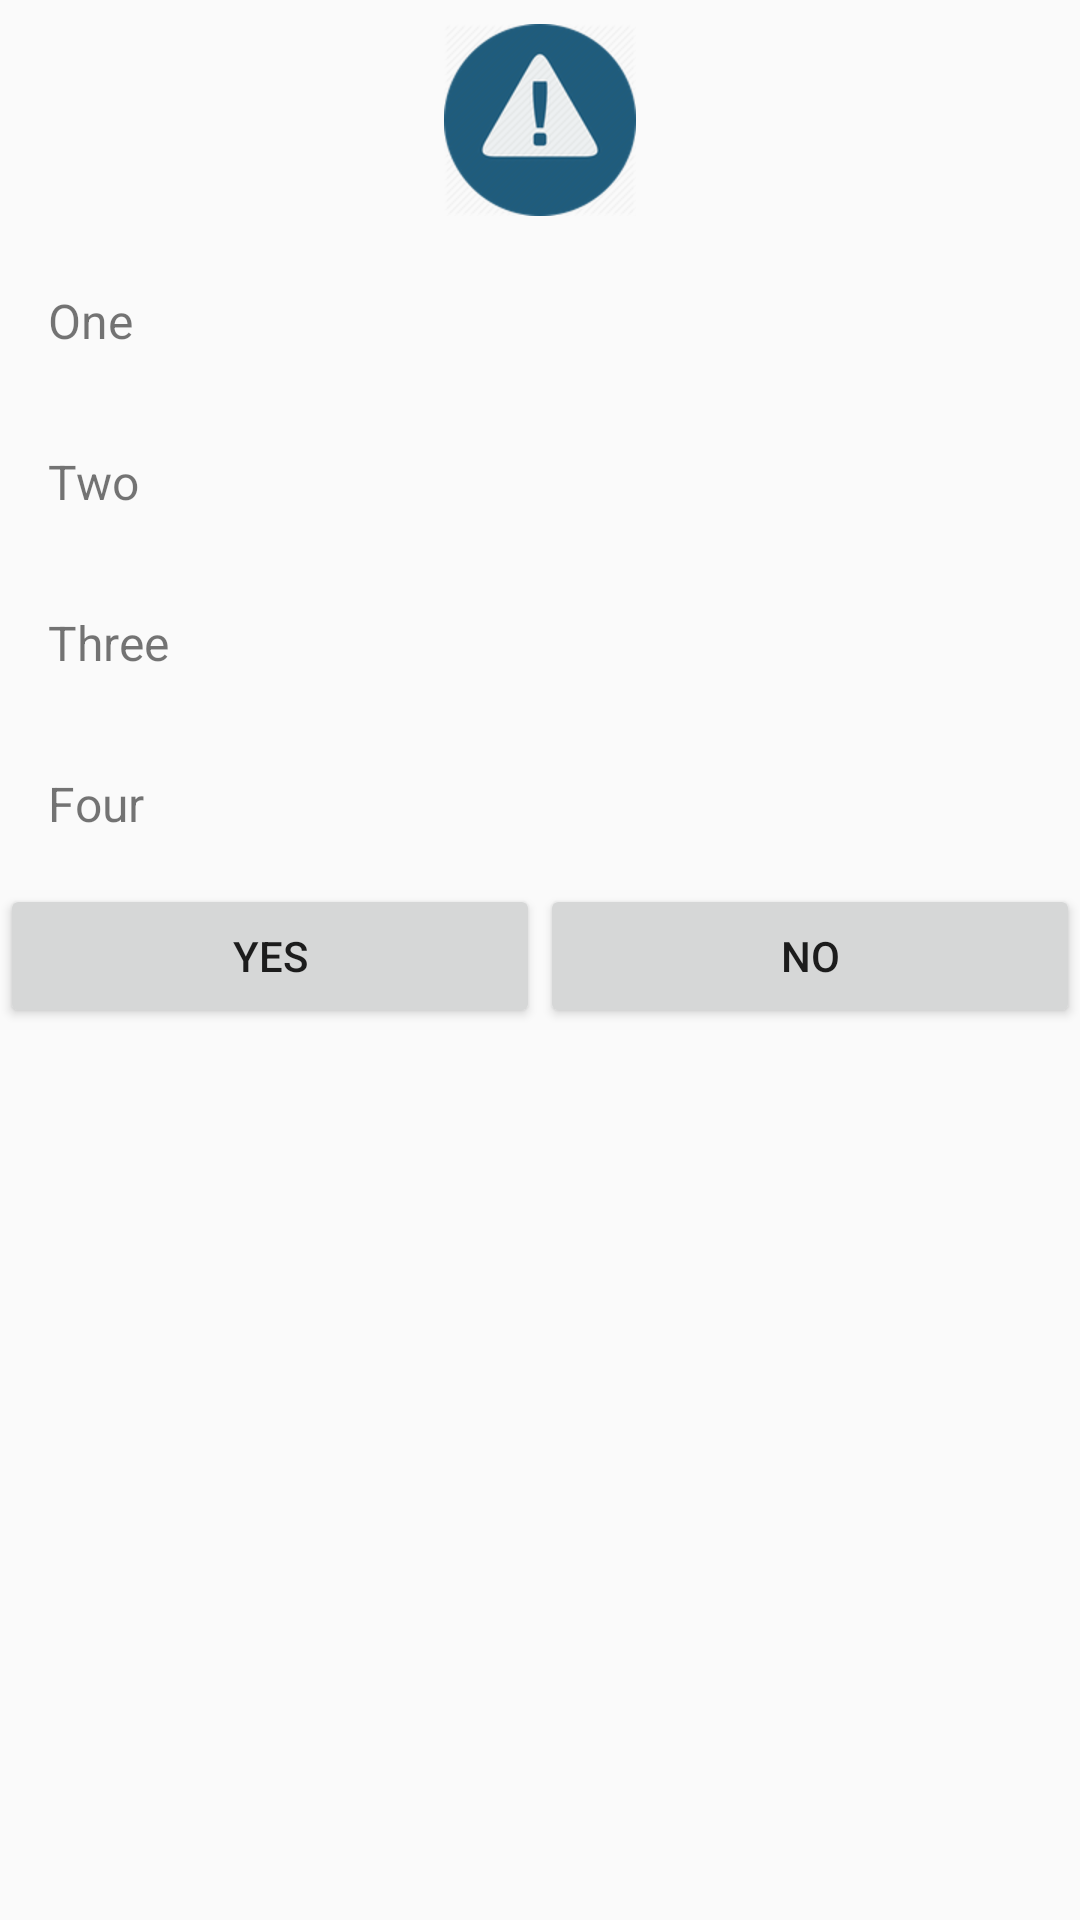

Screen size 1080*1920. Icon name, then its center in pixels as point (x, y):
caution: point (540, 120)
